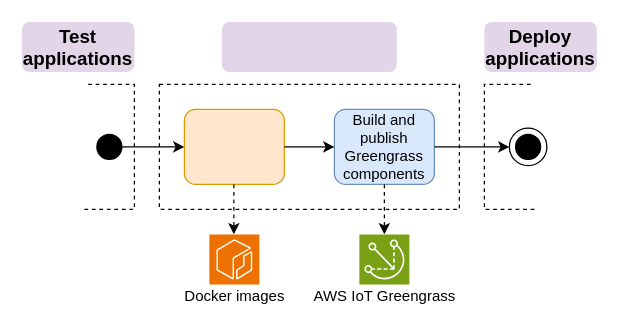
Image size: 618x330. Some labels were removed from this diagram. The shapes that lost their labels are listed below. From the top down, each one's box as (x1, y1, x2, y2) in pixels, then its label:
(221, 21, 396, 71): Build applications
(183, 108, 284, 184): Containerize applications
